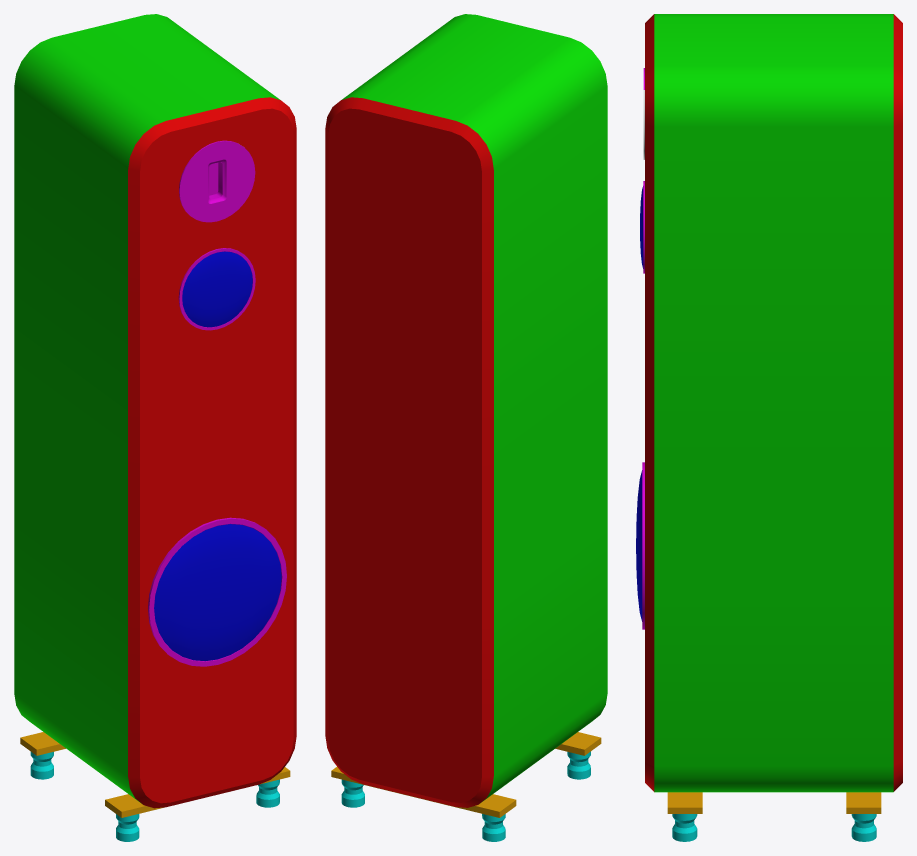
The model's file is audio.fbx.
3 views of the same model, side by side, from view 1: azimuth 30°, elevation 25°; view 2: azimuth 150°, elevation 25°; view 3: azimuth 270°, elevation 25° (orthographic). The views are drawn at different scales.
Parts seen in each view (by area): view 1: body, other; view 2: body, other; view 3: body, other.
Boxes of the visible parts, x1=… form: body: x1=14, y1=14, x2=296, y2=808; other: x1=20, y1=140, x2=290, y2=841; body: x1=325, y1=14, x2=607, y2=807; other: x1=331, y1=732, x2=601, y2=841; body: x1=645, y1=14, x2=902, y2=792; other: x1=636, y1=68, x2=881, y2=841.
Bounding box in the file's own units: 110 × 452 × 144.
